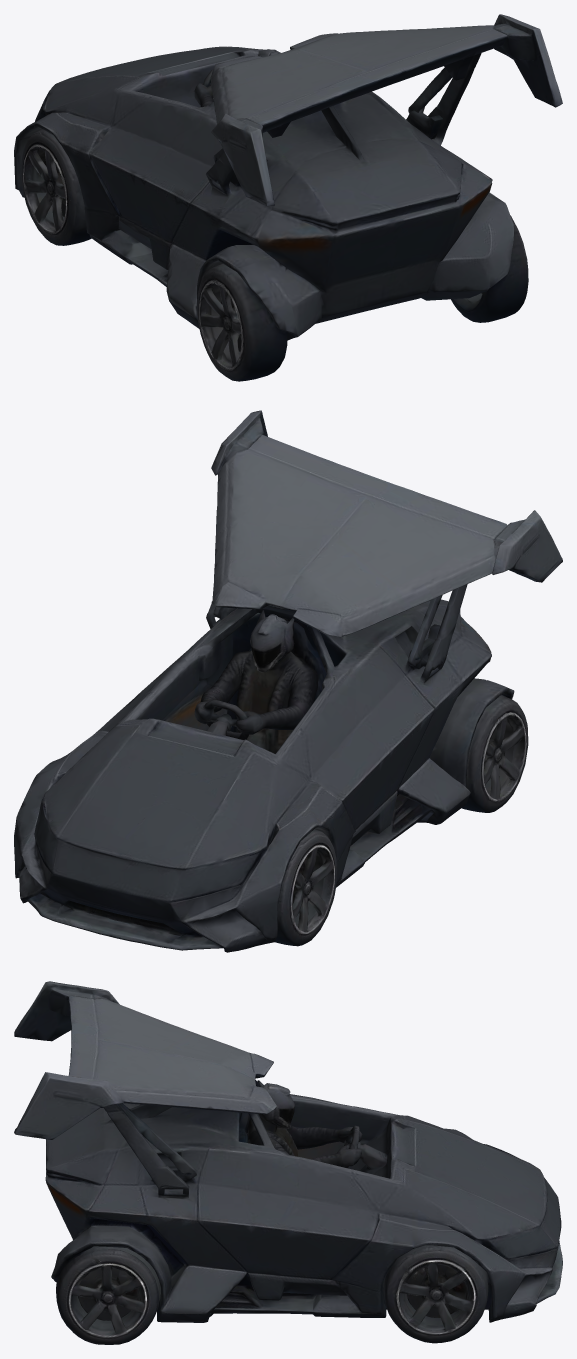
Rendered from vector-dark.glb.
3 renders of one model, top to bottom at view 1: azimuth 30°, elevation 25°; view 2: azimuth 150°, elevation 25°; view 3: azimuth 270°, elevation 25°, orthographic. The views are drawn at different scales.
Parts seen in each view (by area): view 1: chassis; view 2: chassis; view 3: chassis.
Part boxes in pixels (bbox=[...]): chassis: bbox=[14, 14, 562, 381]; chassis: bbox=[14, 410, 562, 952]; chassis: bbox=[14, 981, 562, 1344].
Bounding box in the file's own units: 2.51 × 2.49 × 4.5.
Materials: 1 (1 with a texture image).
